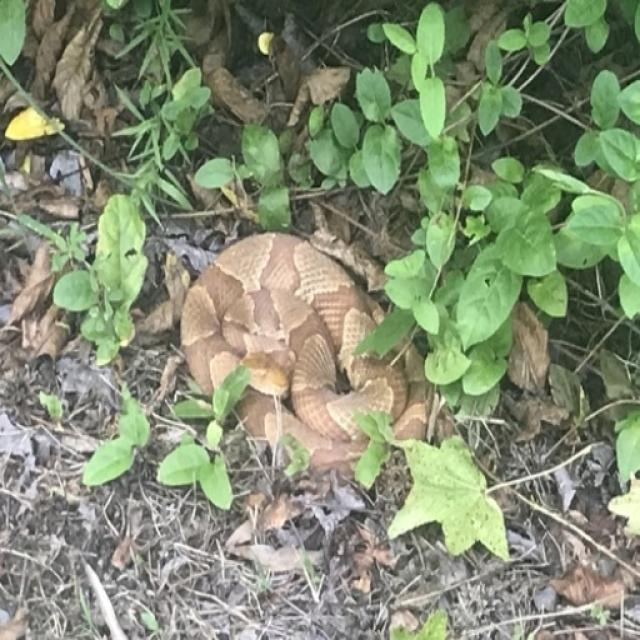snake: (177, 204, 568, 460)
